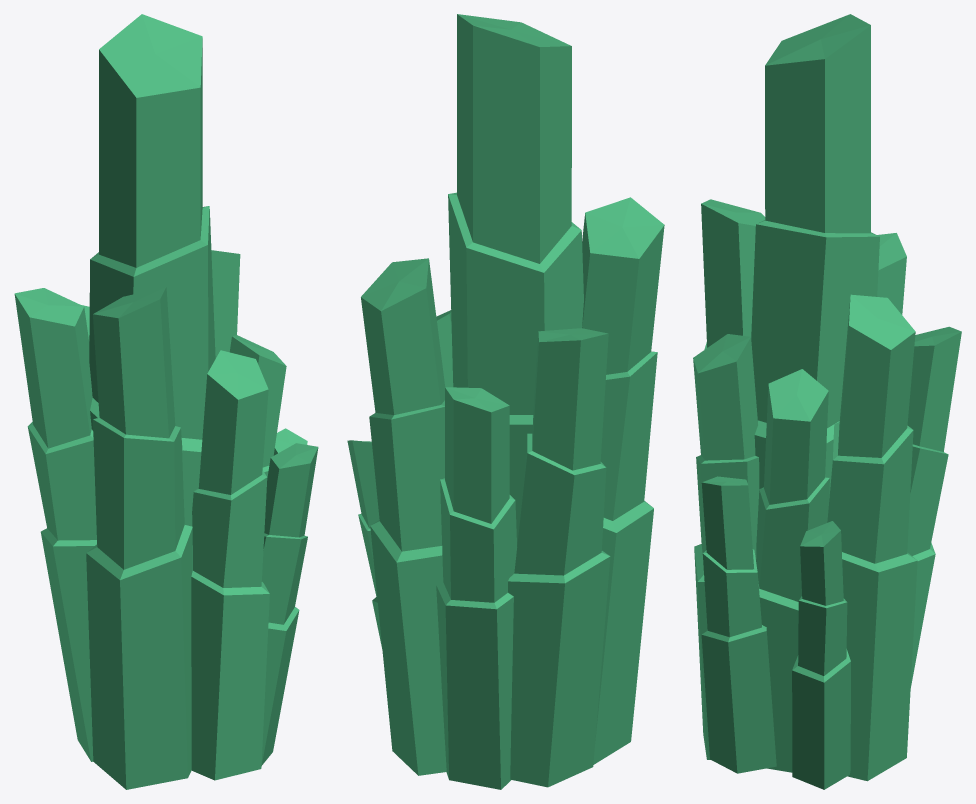
File: cave_crystal_2.fbx
The picture shows the model from 3 angles, left to right: view 1: azimuth 30°, elevation 25°; view 2: azimuth 150°, elevation 25°; view 3: azimuth 270°, elevation 25°; orthographic projection. The views are drawn at different scales.
Parts seen in each view (by area): view 1: cave_crystal_2; view 2: cave_crystal_2; view 3: cave_crystal_2.
Part boxes in pixels (x1,y1,x2,y2): cave_crystal_2: (14, 14, 318, 789); cave_crystal_2: (347, 14, 664, 789); cave_crystal_2: (693, 14, 961, 789).
Bounding box in the file's own units: 0.8384 × 2.16 × 0.7323.
